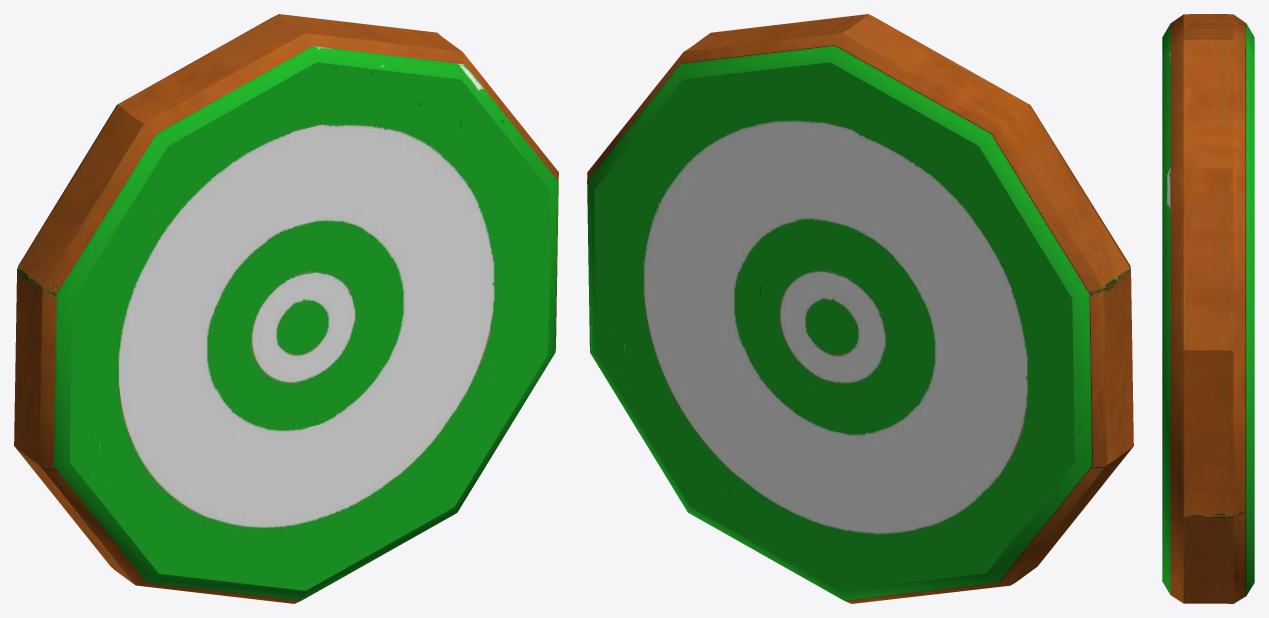
File: GreenAim.fbx
3 views of the same model, side by side, from view 1: azimuth 30°, elevation 25°; view 2: azimuth 150°, elevation 25°; view 3: azimuth 270°, elevation 25° (orthographic). The views are drawn at different scales.
Parts seen in each view (by area): view 1: Cylinder002; view 2: Cylinder002; view 3: Cylinder002.
Boxes of the visible parts, x1,y1,x2,y2 form: Cylinder002: (14,14,558,603); Cylinder002: (587,14,1133,603); Cylinder002: (1162,14,1254,603).
Bounding box in the file's own units: 27.07 × 28.26 × 4.35.
